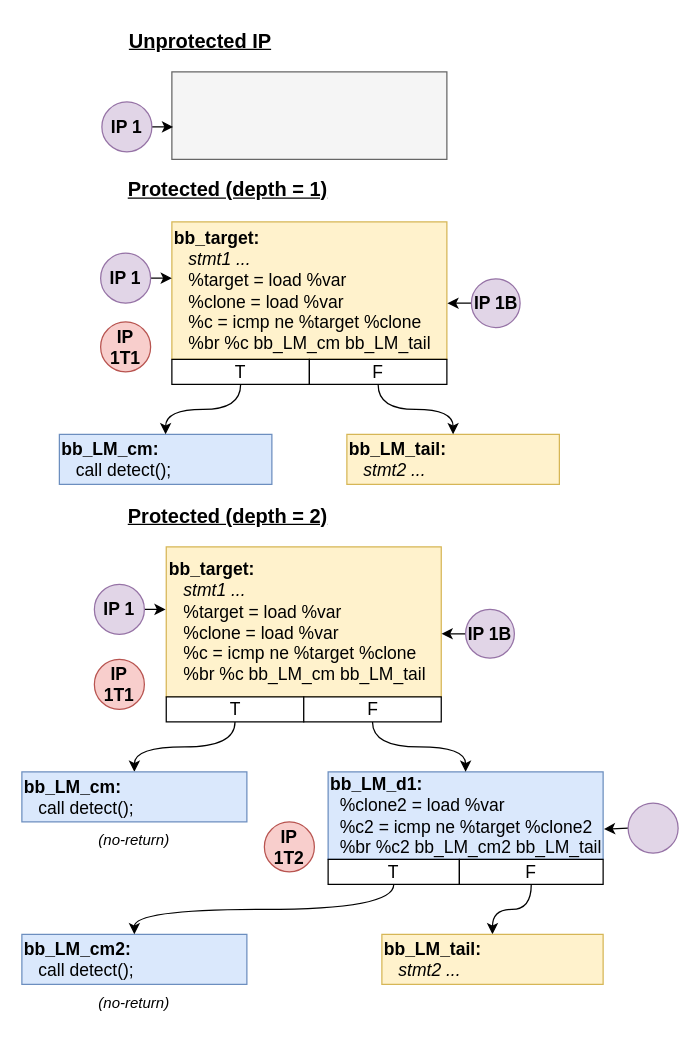
Some shapes in this 700 by 1043 pixel diagram are drawn without their labels. The box of each missing label's shape, as (x1, y1, x2, y2) in pixels:
bb_target: stmt1 ... %target = load %var stmt2 ...: (171, 71, 447, 159)
IP 1C: (627, 802, 678, 853)
